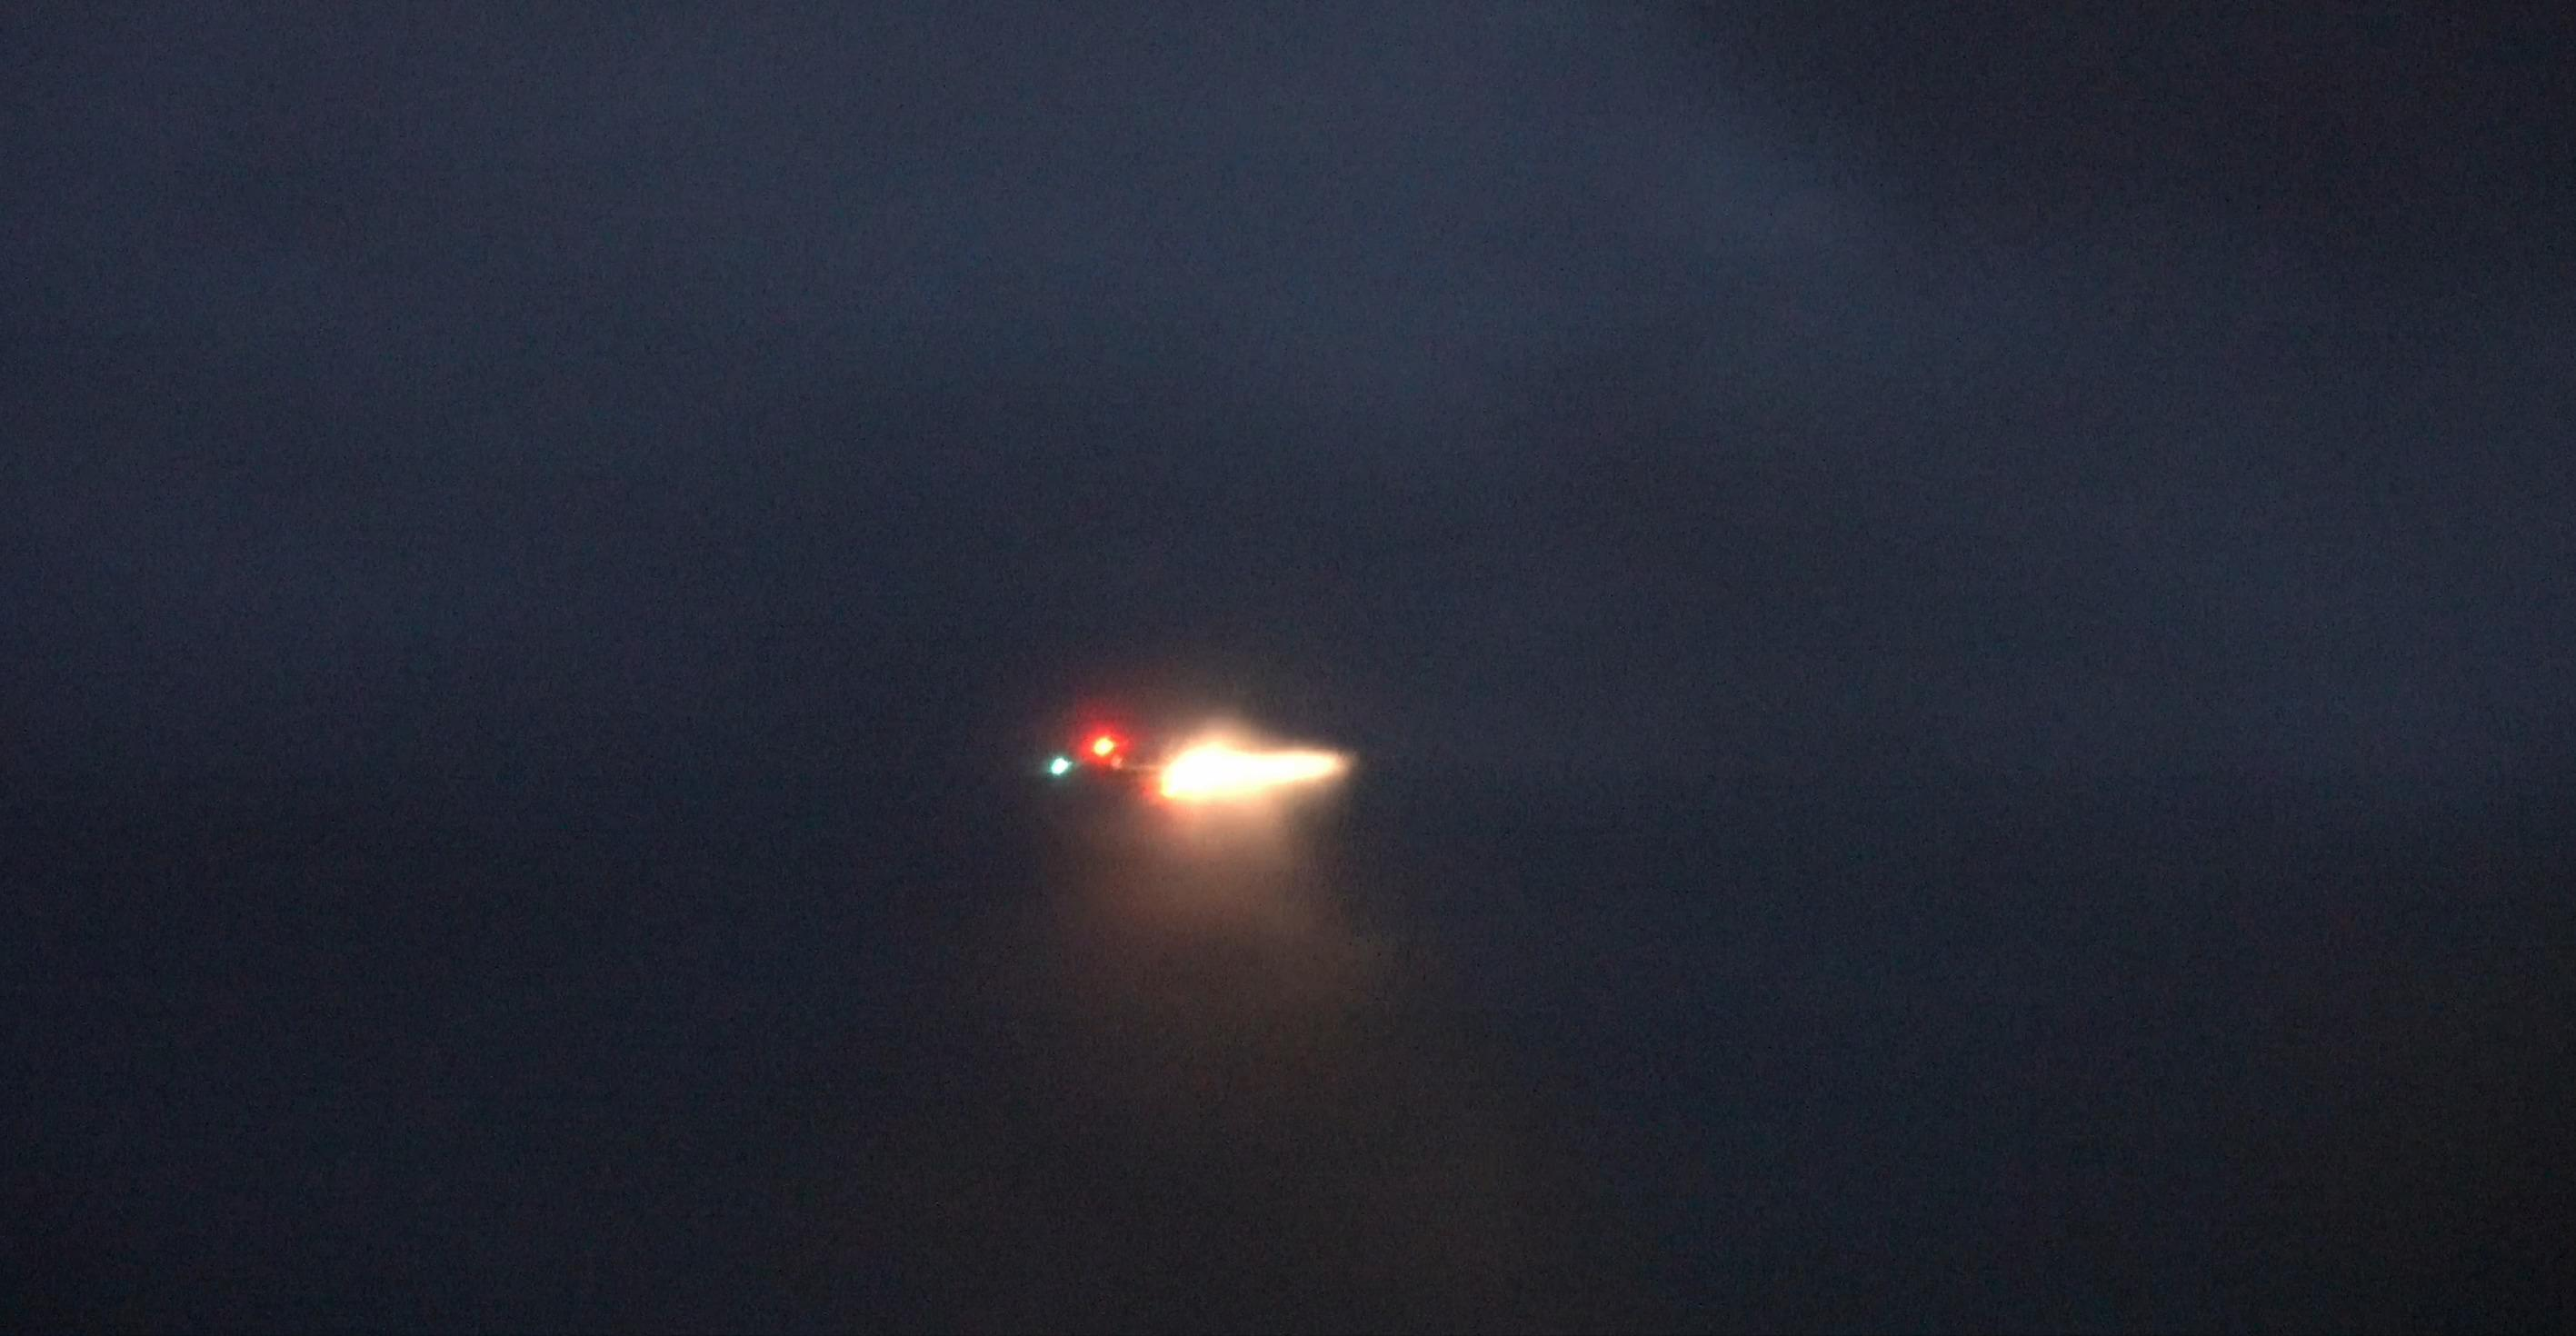Plane: (1019, 716, 1186, 826)
